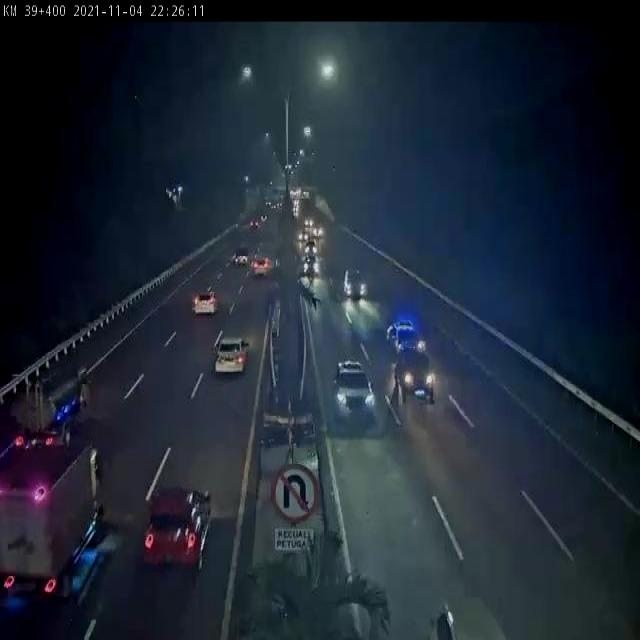Car: (140, 478, 221, 578), (330, 358, 378, 431), (397, 348, 438, 407), (209, 335, 256, 376), (391, 312, 425, 368), (342, 259, 372, 306), (192, 285, 220, 319), (250, 251, 276, 283), (301, 253, 319, 279), (305, 238, 320, 258), (298, 226, 308, 244)
Truck: (0, 409, 114, 620), (8, 350, 94, 445)
